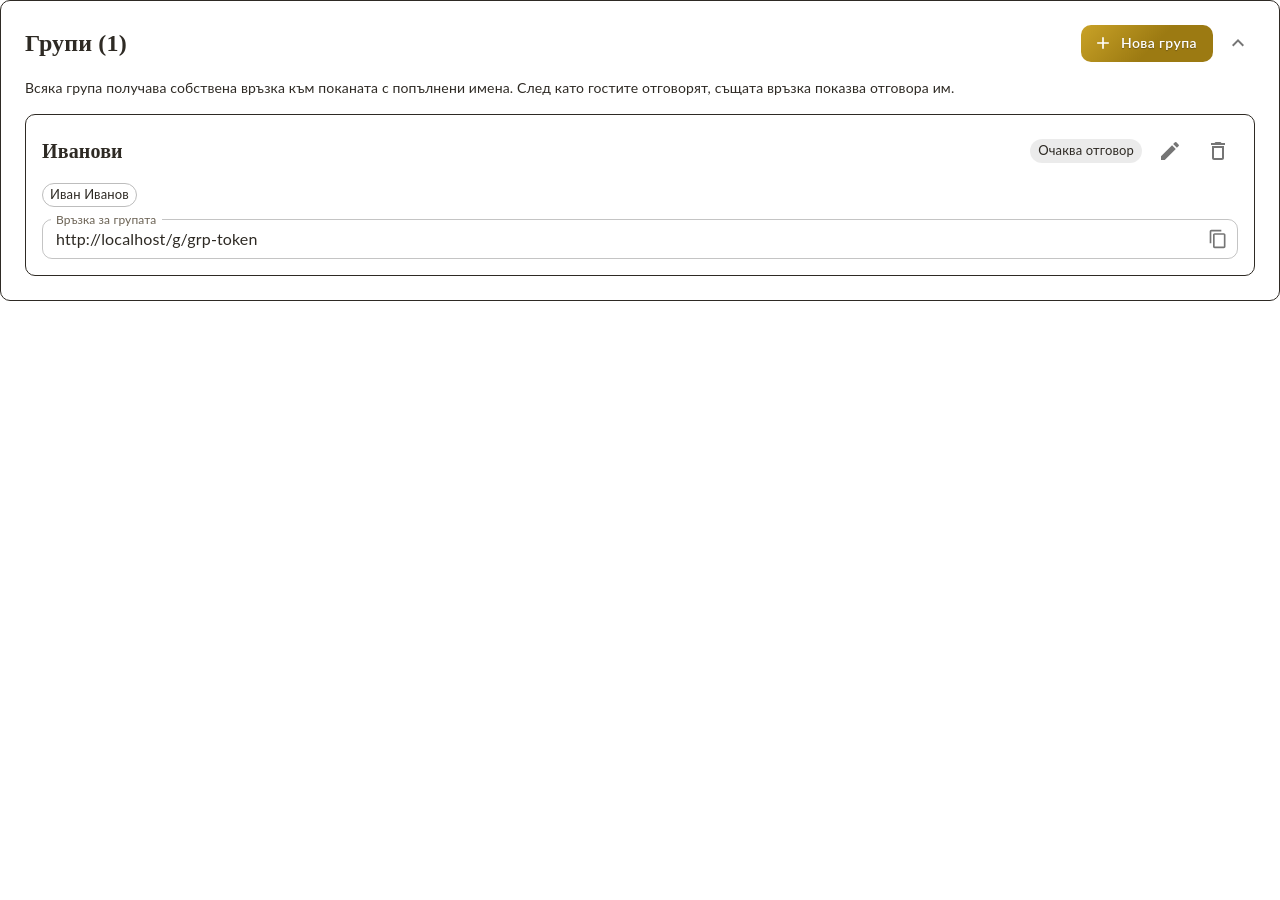
Test: GuestGroupsPanel › deletes a group after confirmation
Click the button named "Изтрий Иванови": click(1218, 150) [1198,130,1238,170]
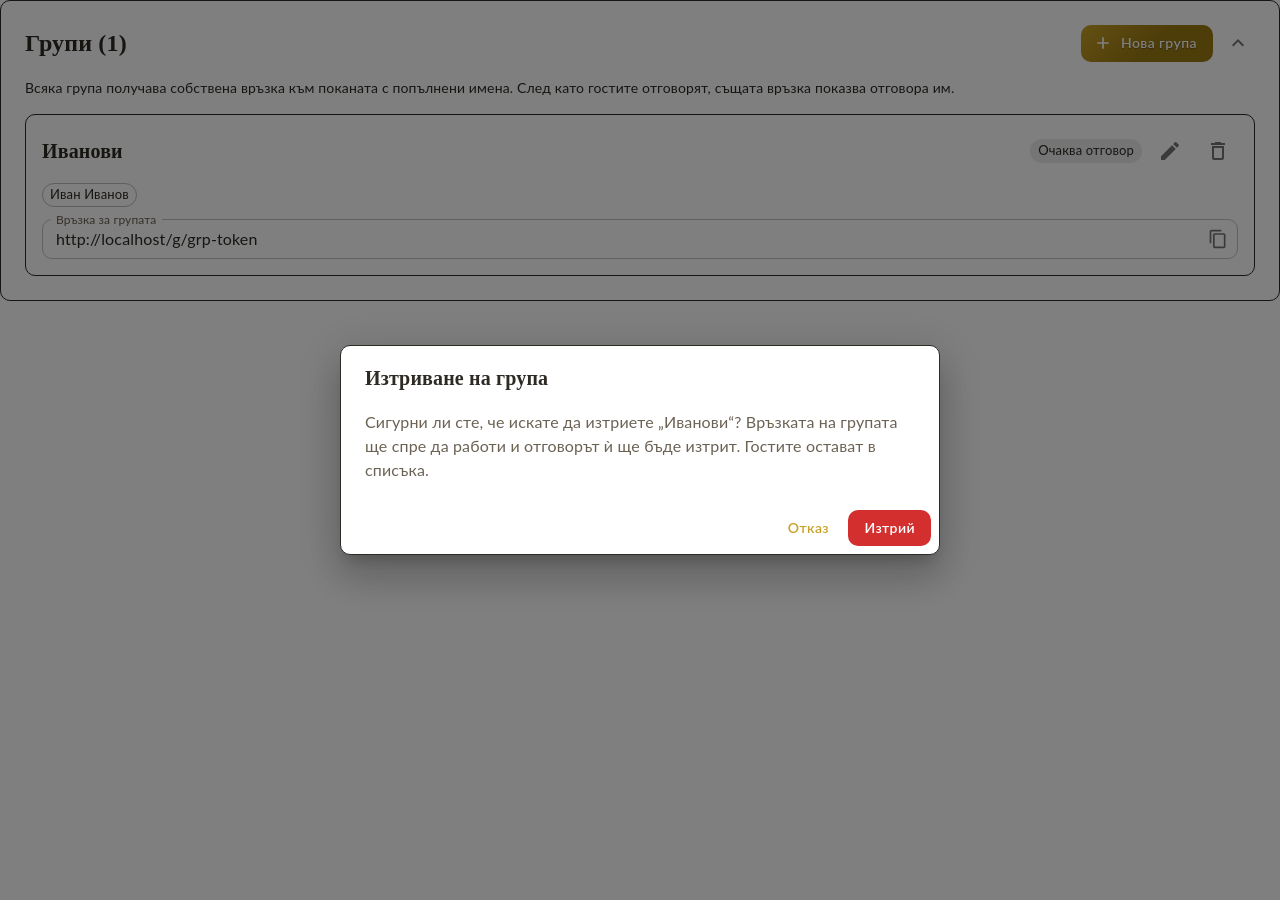
Check: the dialog "Изтриване на група" shows "Гостите остават в списъка.", box [365,412,898,479]
Click the button "Изтрий": click(890, 528) [848,510,931,546]
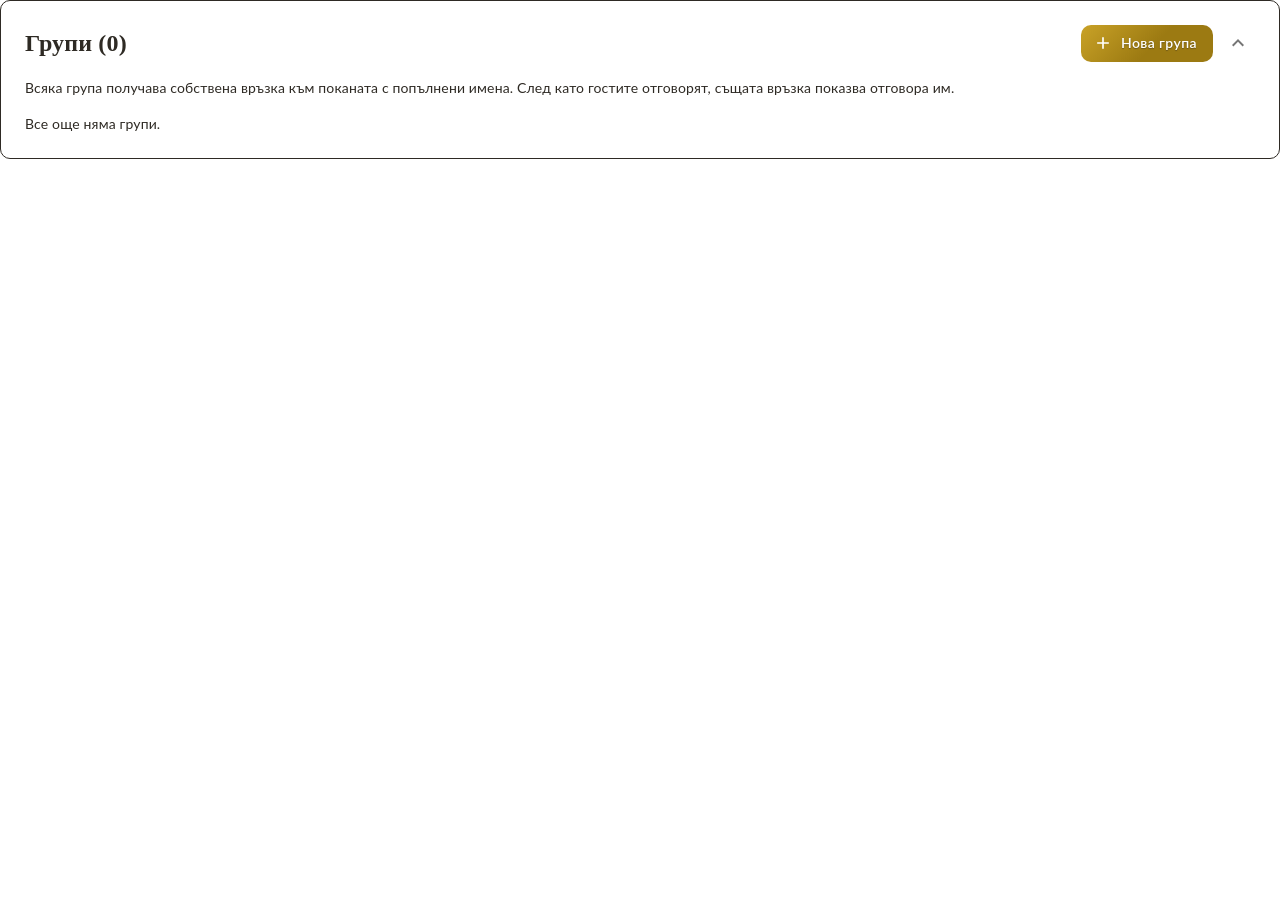
Check: the heading "Иванови" is gone
Check: the text "Все още няма групи." is shown, box [25,114,160,132]
